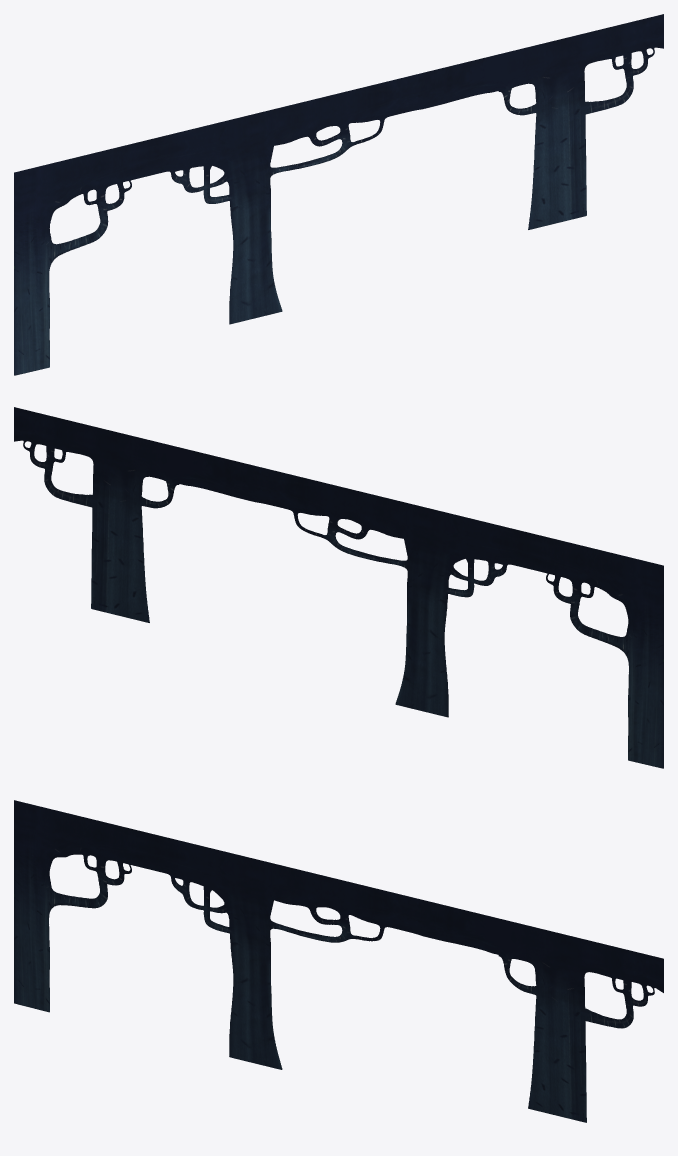
Rendered from Level_01_Arbres.fbx.
3 renders of one model, top to bottom at view 1: azimuth 30°, elevation 25°; view 2: azimuth 150°, elevation 25°; view 3: azimuth 330°, elevation 25°, orthographic.
Visible parts, largest first — view 1: Level_01_Arbres; view 2: Level_01_Arbres; view 3: Level_01_Arbres.
Boxes of the visible parts, left/top/right/bottom form: Level_01_Arbres: left=14, top=14, right=663, bottom=375; Level_01_Arbres: left=14, top=407, right=663, bottom=768; Level_01_Arbres: left=14, top=800, right=663, bottom=1122.
Bounding box in the file's own units: 46.56 × 14.3 × 0.0531.
